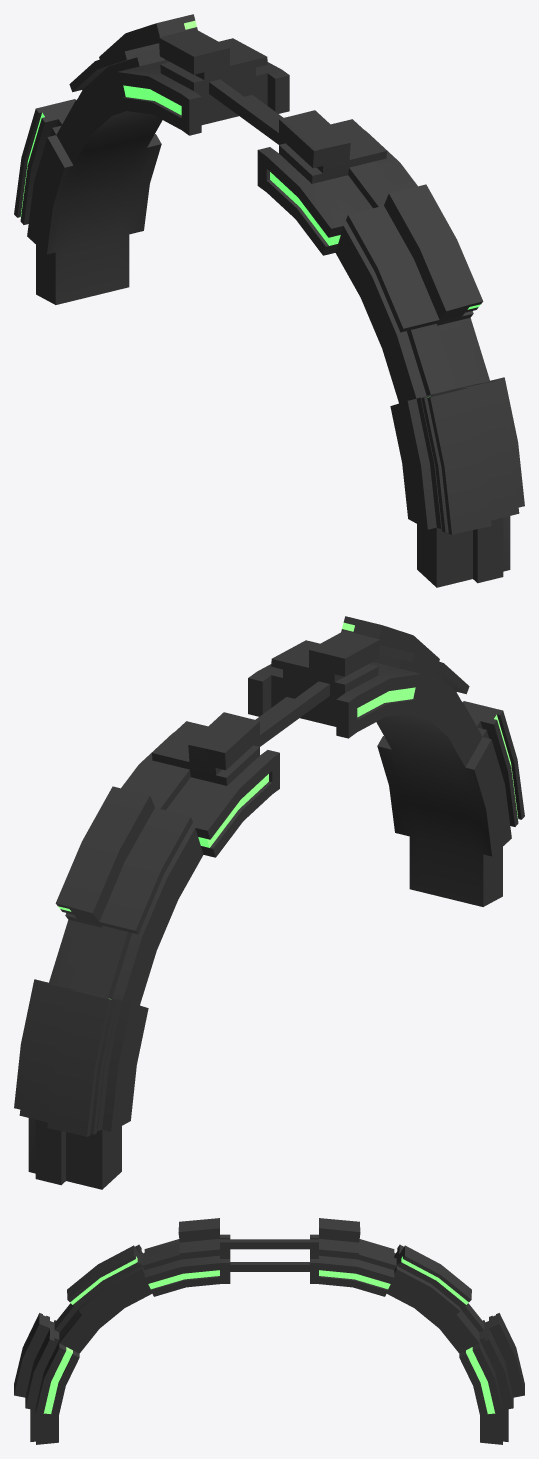
File: gate_groundWide_green.fbx
3 renders of one model, top to bottom at view 1: azimuth 30°, elevation 25°; view 2: azimuth 150°, elevation 25°; view 3: azimuth 270°, elevation 25°, orthographic. The views are drawn at different scales.
Visible parts, largest first — view 1: gate_groundWide_green; view 2: gate_groundWide_green; view 3: gate_groundWide_green.
Boxes of the visible parts, x1=… form: gate_groundWide_green: x1=14, y1=14, x2=524, y2=587; gate_groundWide_green: x1=14, y1=616, x2=524, y2=1189; gate_groundWide_green: x1=14, y1=1218, x2=524, y2=1444.
Size of the model in its own units: 1.17 by 3.95 by 8.86.
